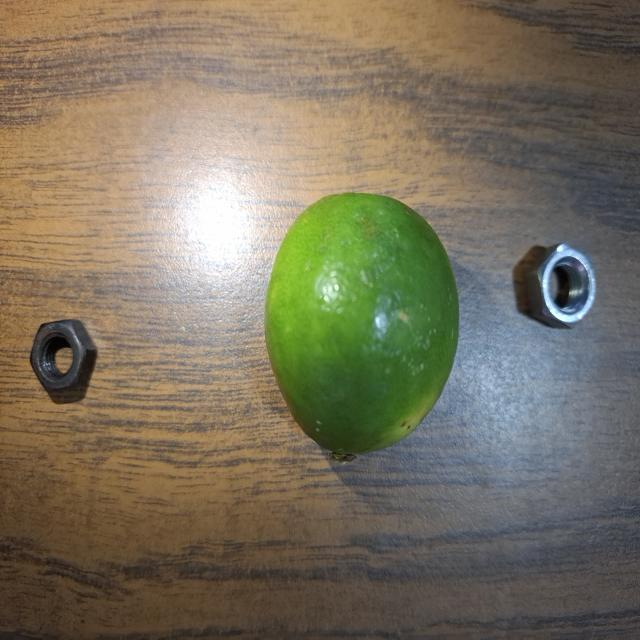limon: (255, 193, 462, 469)
milimetrico: (25, 319, 99, 402)
tuerca: (523, 240, 604, 334)
